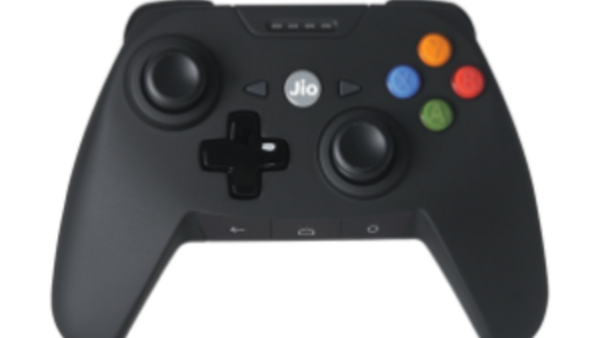controller: (53, 1, 549, 337)
